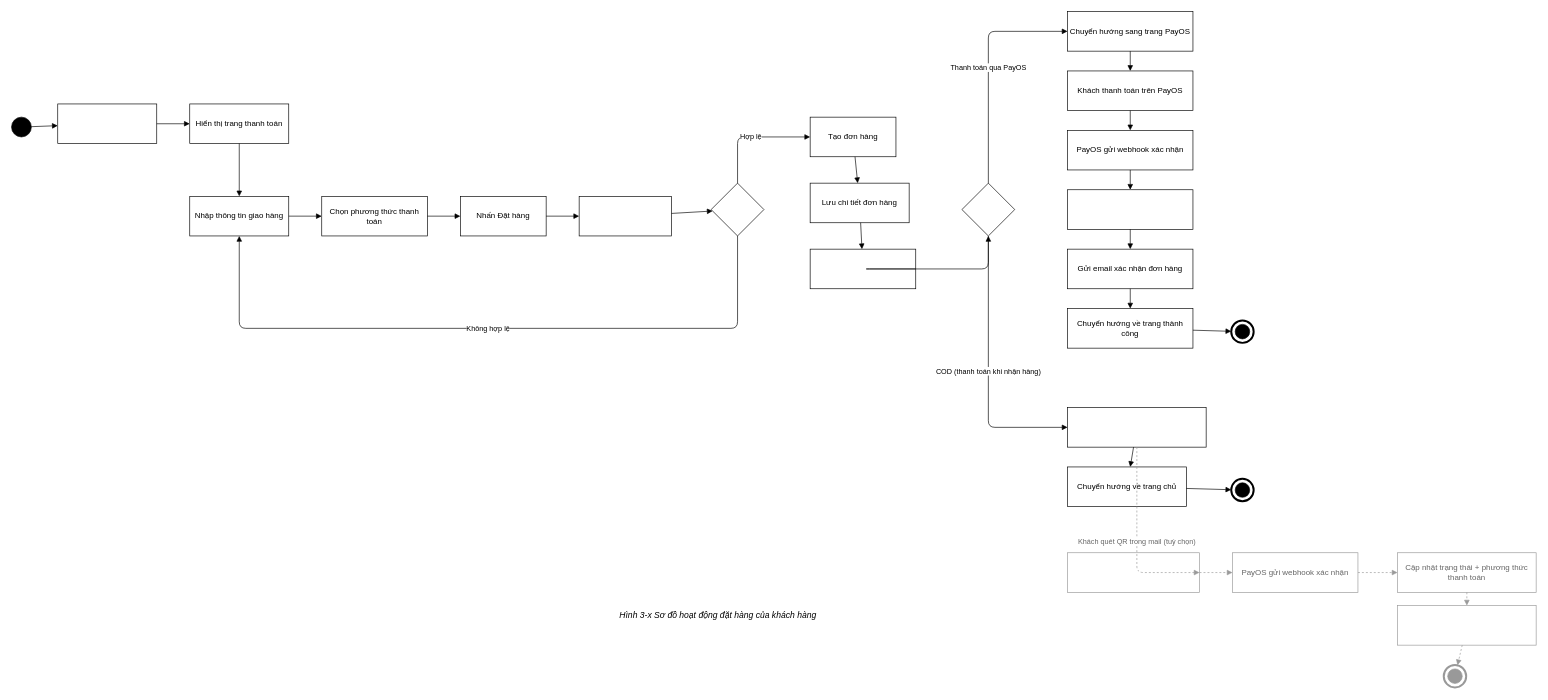
The diagram is 1548 pixels wide and 700 high, and some of its shapes have lost their labels. Each missing label, with the box of its shape:
Chọn sản phẩm trong giỏ: (57, 103, 157, 144)
Cập nhật trạng thái đơn hàng: (1067, 189, 1193, 229)
Gửi email xác nhận đã thanh toán: (1397, 605, 1536, 645)
Gửi email xác nhận đơn hàng (kèm mã QR thanh toán): (1067, 407, 1206, 447)
Khách quét mã QR trong email: (1067, 552, 1200, 592)
Kiểm tra thông tin: (578, 196, 672, 236)
Xóa sản phẩm khỏi giỏ hàng: (809, 248, 916, 289)
